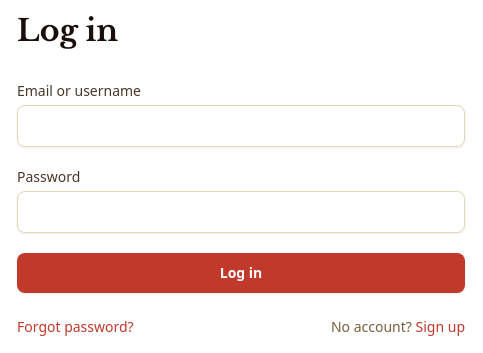
Test: LoginPage › disables the submit button while submitting
Type "test@example.com" into the field labelled "Email or username" at (241, 126), box [17,105,465,147]
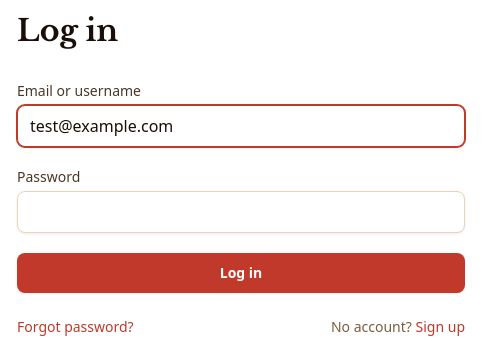
Type "password123" into the password field labelled "Password" at (241, 212), box [17,191,465,233]
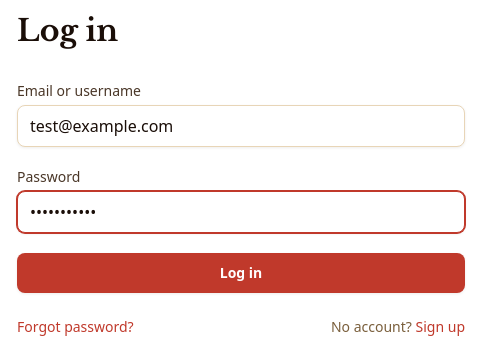
Click the button "Log in" at (241, 273), box [17,253,465,293]
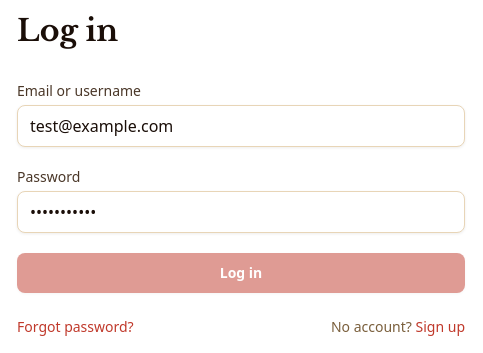
Expected: the button "Log in" is disabled, [17,253,465,293]
